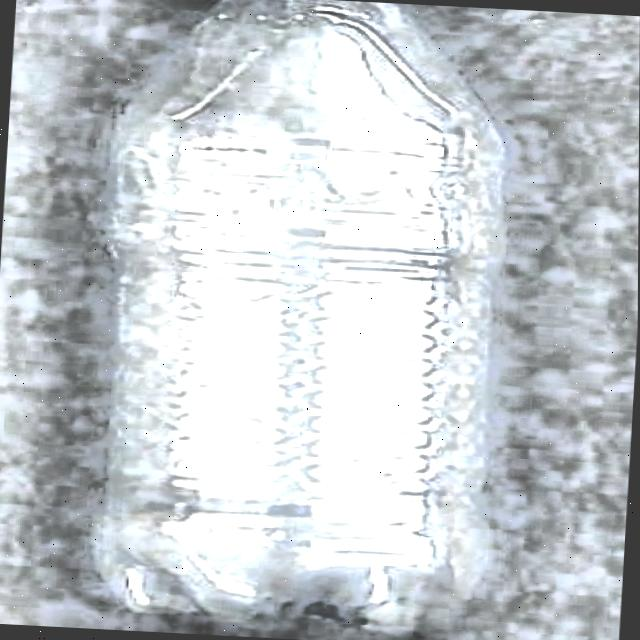plastic: (63, 0, 540, 640)
